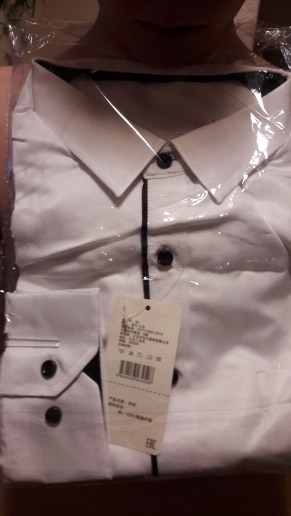shirts: (5, 57, 291, 480)
